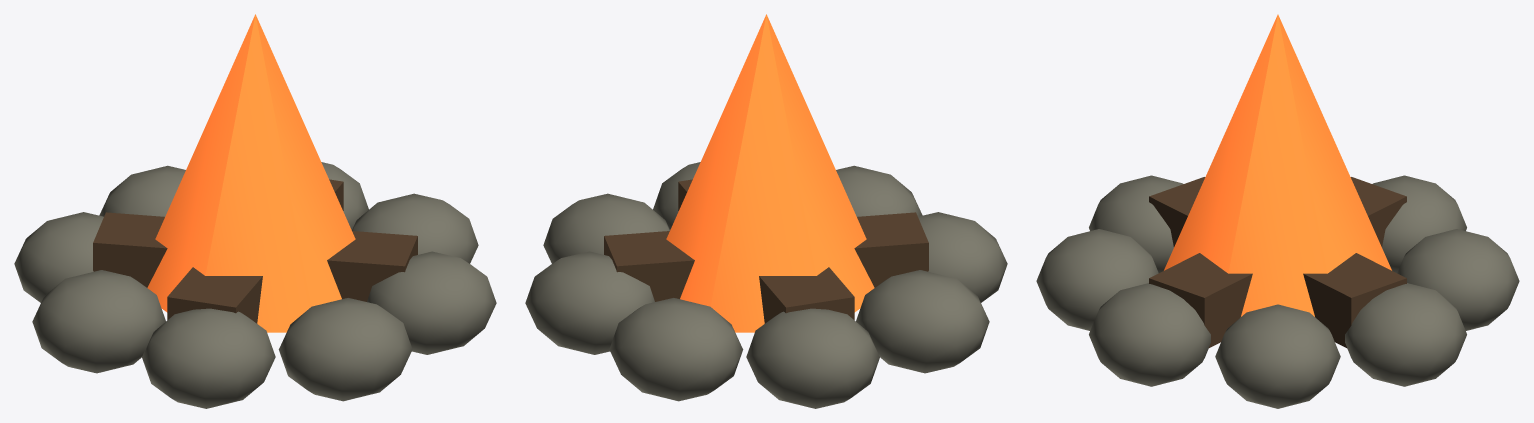
The model's file is campfire.glb.
3 views of the same model, side by side, from view 1: azimuth 30°, elevation 25°; view 2: azimuth 150°, elevation 25°; view 3: azimuth 270°, elevation 25° (orthographic).
Parts seen in each view (by area): view 1: Body; view 2: Body; view 3: Body.
Boxes of the visible parts, x1=… form: Body: x1=14, y1=14, x2=496, y2=408; Body: x1=525, y1=14, x2=1007, y2=408; Body: x1=1036, y1=14, x2=1519, y2=408.
Bounding box in the file's own units: 1.02 × 0.71 × 1.
